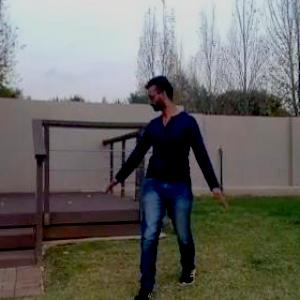land: (100, 69, 226, 299)
